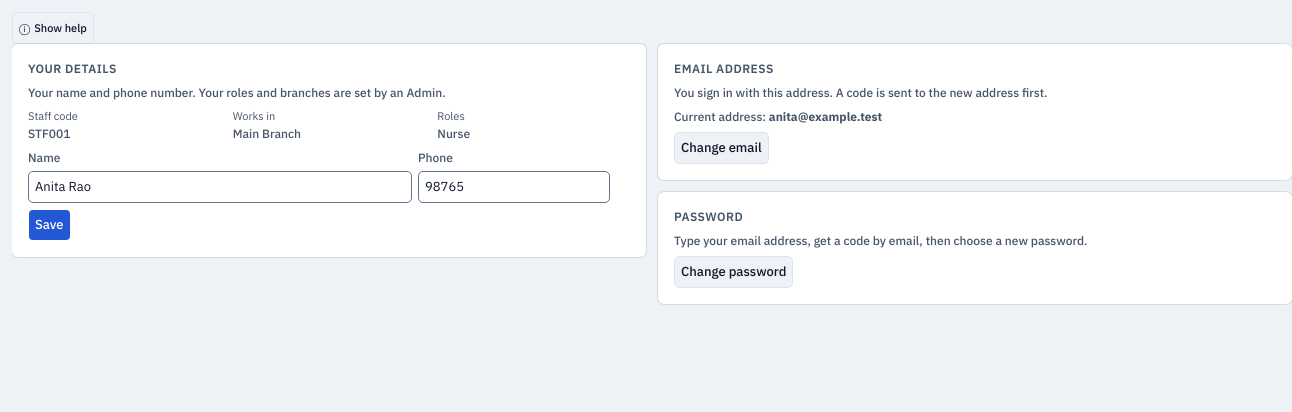
Test case: changing the email address › a refused address (already used) stays on the first step
The width and height of the screenshot is (1292, 412).
Step 1. Click the button "Change email" → x=721, y=148, box top-left (674, 132), bottom-right (769, 164)
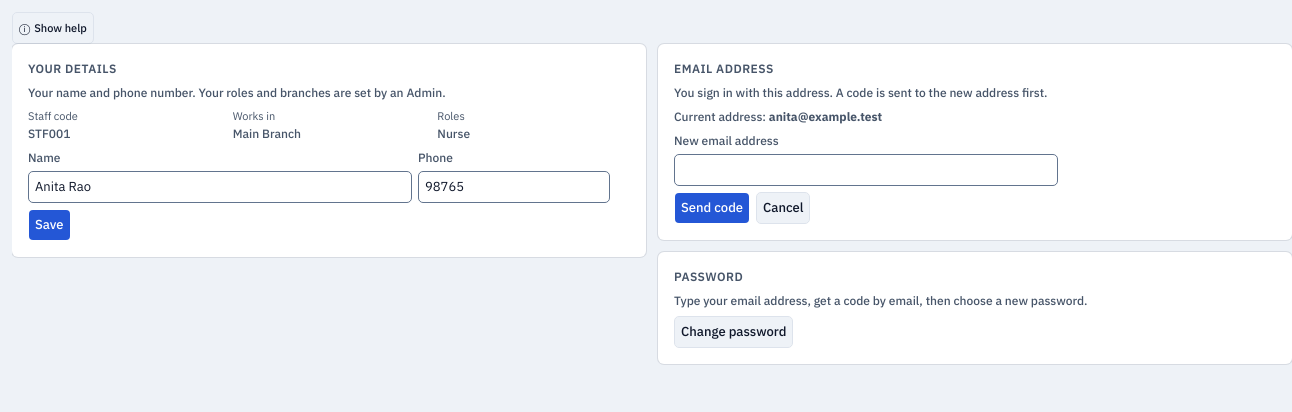
Step 2. Type "ravi@example.test" into the field labelled "New email address" → x=866, y=170, box top-left (674, 154), bottom-right (1058, 186)
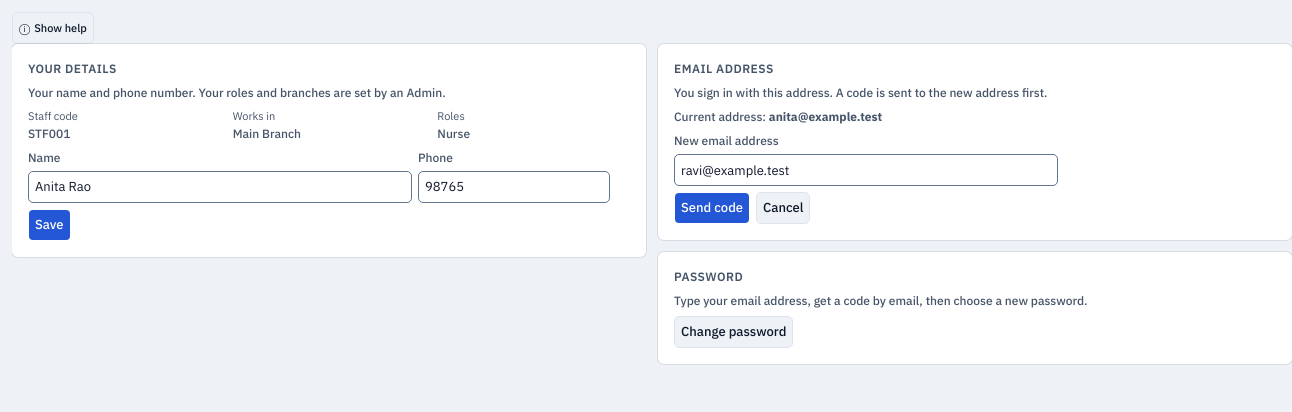
Step 3. Click the button "Send code" → x=712, y=208, box top-left (674, 192), bottom-right (750, 224)
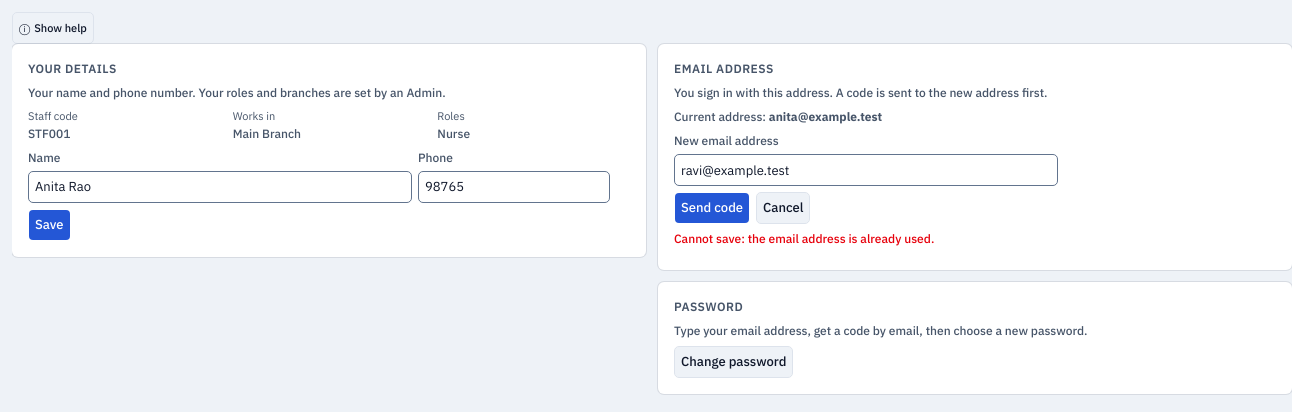
Now the message "Cannot save: the email address is already used." is shown, box top-left (674, 231), bottom-right (934, 246)
